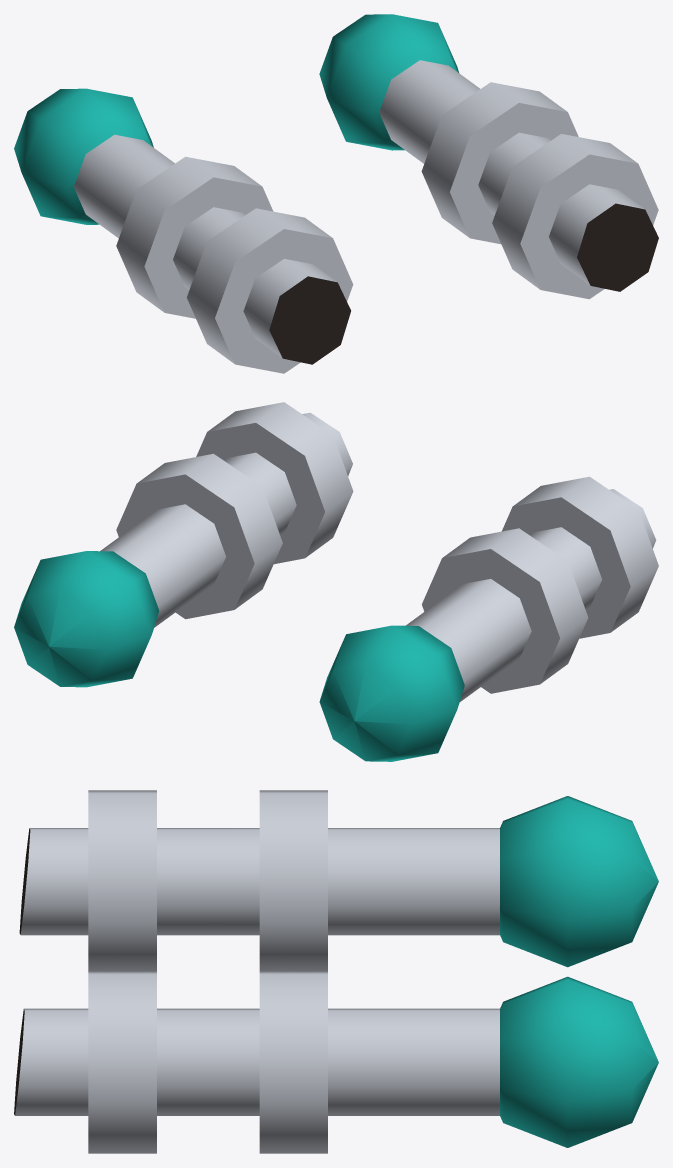
Rendered from guard_turret_debris1.obj.
3 views of the same model, one above another, from view 1: azimuth 30°, elevation 25°; view 2: azimuth 150°, elevation 25°; view 3: azimuth 270°, elevation 25° (orthographic). The views are drawn at different scales.
Parts seen in each view (by area): view 1: gun_ring, gun, gun_tip; view 2: gun_ring, gun_tip, gun; view 3: gun, gun_ring, gun_tip.
Part boxes in pixels (x1,y1,x2,y2): gun_ring: (116, 82, 658, 373); gun: (74, 60, 658, 364); gun_tip: (14, 14, 458, 224); gun_ring: (116, 402, 658, 693); gun_tip: (14, 551, 464, 761); gun: (100, 412, 656, 701); gun: (14, 828, 499, 1115); gun_ring: (88, 790, 327, 1153); gun_tip: (500, 796, 658, 1147).
Bounding box in the file's own units: 2.18 × 0.68 × 2.26.
